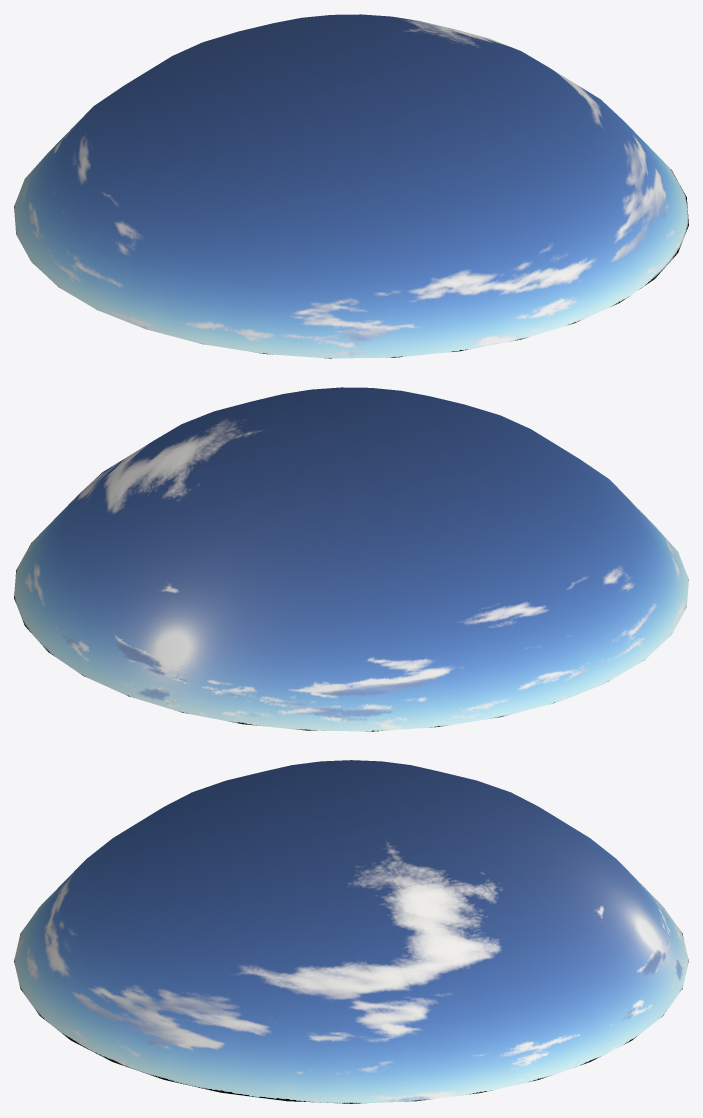
The model's file is skydome.obj.
3 renders of one model, top to bottom at view 1: azimuth 30°, elevation 25°; view 2: azimuth 150°, elevation 25°; view 3: azimuth 270°, elevation 25°, orthographic.
Visible parts, largest first — view 1: Sphere; view 2: Sphere; view 3: Sphere.
Part boxes in pixels (x1=…): Sphere: x1=14, y1=14, x2=688, y2=358; Sphere: x1=14, y1=387, x2=688, y2=731; Sphere: x1=14, y1=760, x2=688, y2=1103.
Bounding box in the file's own units: 263 × 70.28 × 263.
Materials: 1 (1 with a texture image).
